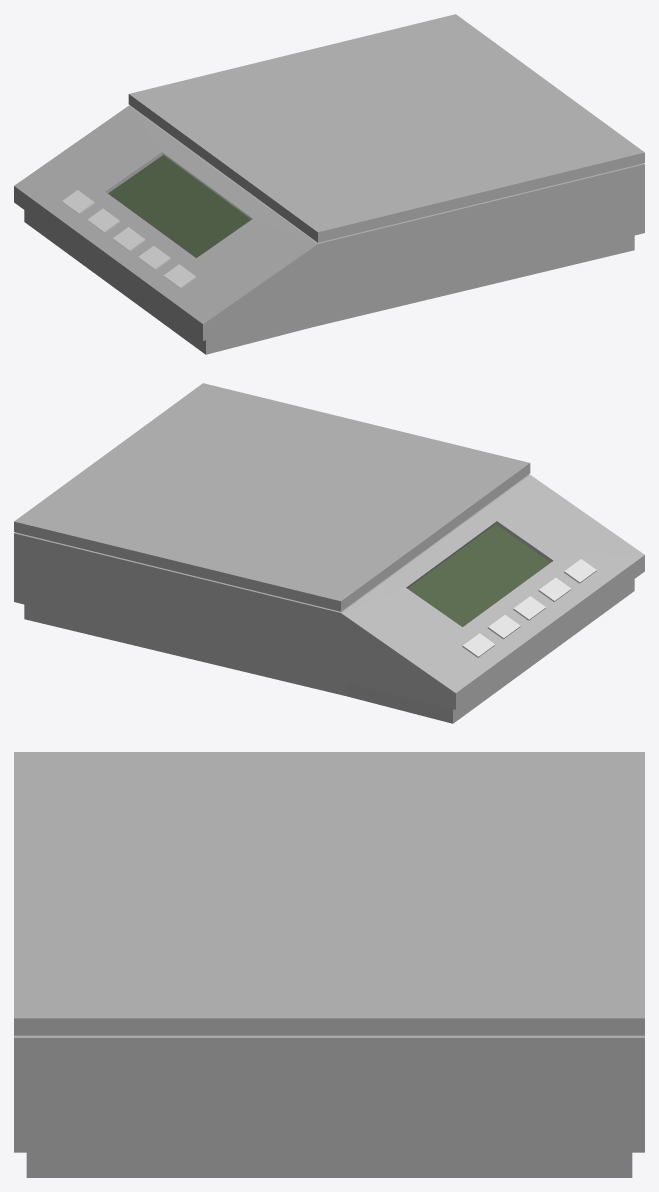
File: Scale.fbx
The picture shows the model from 3 angles, top to bottom: view 1: azimuth 30°, elevation 25°; view 2: azimuth 150°, elevation 25°; view 3: azimuth 270°, elevation 25°; orthographic projection. The views are drawn at different scales.
Parts seen in each view (by area): view 1: Cube.010; view 2: Cube.010; view 3: Cube.010.
Boxes of the visible parts, x1,y1,x2,y2 form: Cube.010: [14, 14, 644, 354]; Cube.010: [14, 383, 644, 723]; Cube.010: [14, 752, 644, 1177].
Size of the model in its own units: 39.37 by 8.42 by 29.18.
